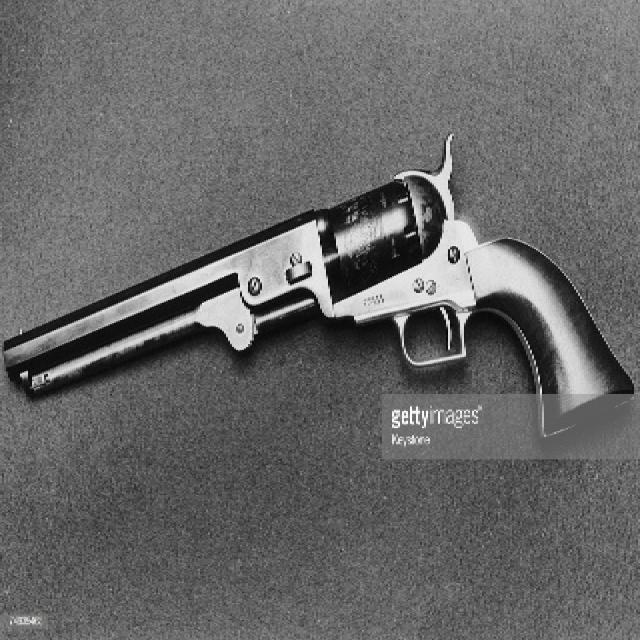handgun: (1, 153, 637, 453)
